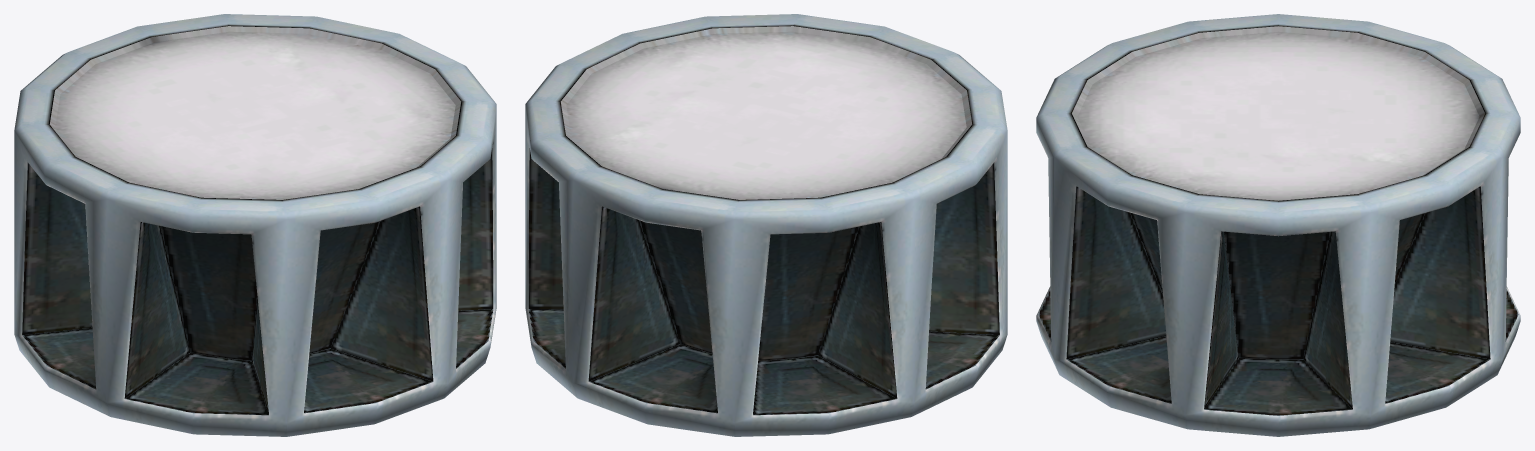
File: thm_frn_table_s02_l0.fbx
The picture shows the model from 3 angles, left to right: view 1: azimuth 30°, elevation 25°; view 2: azimuth 150°, elevation 25°; view 3: azimuth 270°, elevation 25°; orthographic projection.
Parts seen in each view (by area): view 1: mesh_node; view 2: mesh_node; view 3: mesh_node.
Boxes of the visible parts, left/top/right/bottom form: mesh_node: left=14, top=14, right=496, bottom=436; mesh_node: left=525, top=14, right=1007, bottom=436; mesh_node: left=1036, top=14, right=1520, bottom=436.
Bounding box in the file's own units: 1.45 × 0.7502 × 1.45.
Materials: 1 (1 with a texture image).
